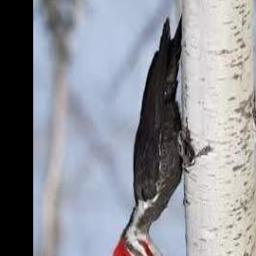Woodpecker: (112, 14, 192, 256)
